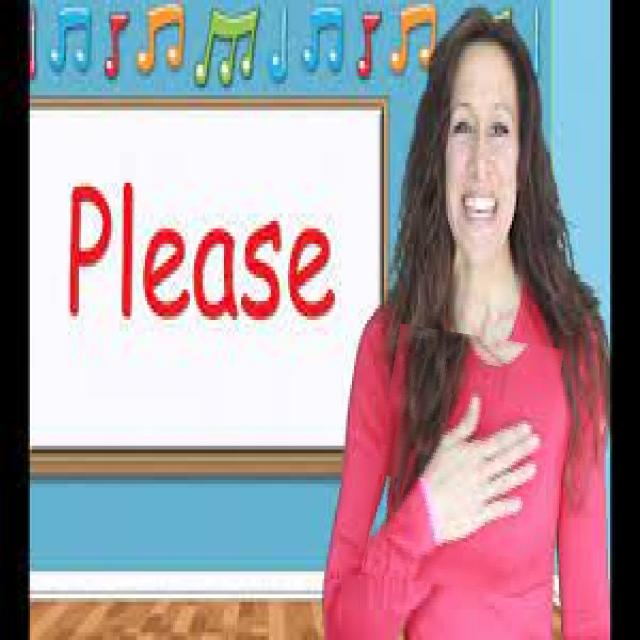Please: (371, 330, 555, 592)
